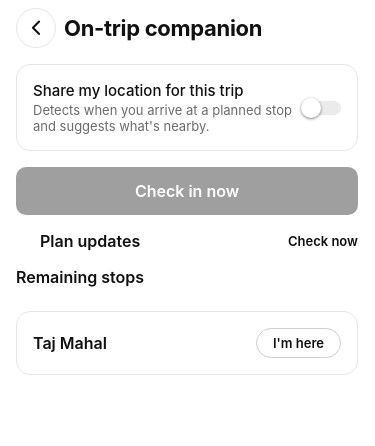
OnTripCompanionScreen › enables consent, then checks in and surfaces nearby recommendations
The image size is (375, 446).
Expected: the element with test id "remaining-stops-list" is shown, x1=16 y1=311 x2=358 y2=375
Click the switch with test id "location-consent-switch": [321, 108] box x1=301 y1=98 x2=341 y2=118
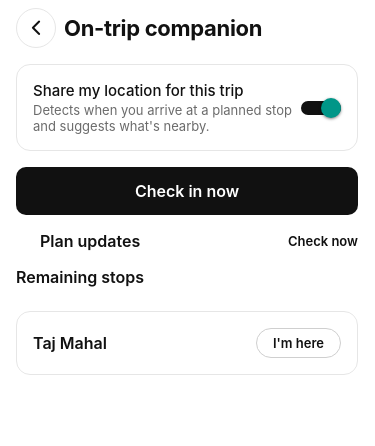
Click the button with test id "check-in-button": [187, 191] box x1=16 y1=167 x2=358 y2=215
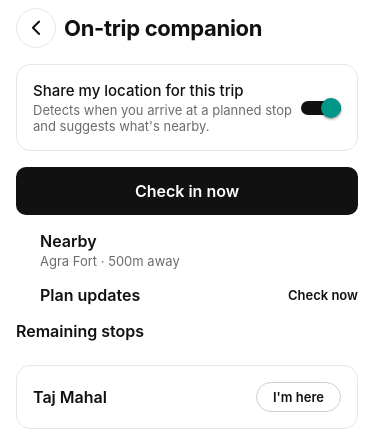
Expected: the element with test id "nearby-section" is shown, x1=40 y1=231 x2=180 y2=269
Expected: the text "Agra Fort · 500m away" is shown, x1=40 y1=253 x2=180 y2=269
